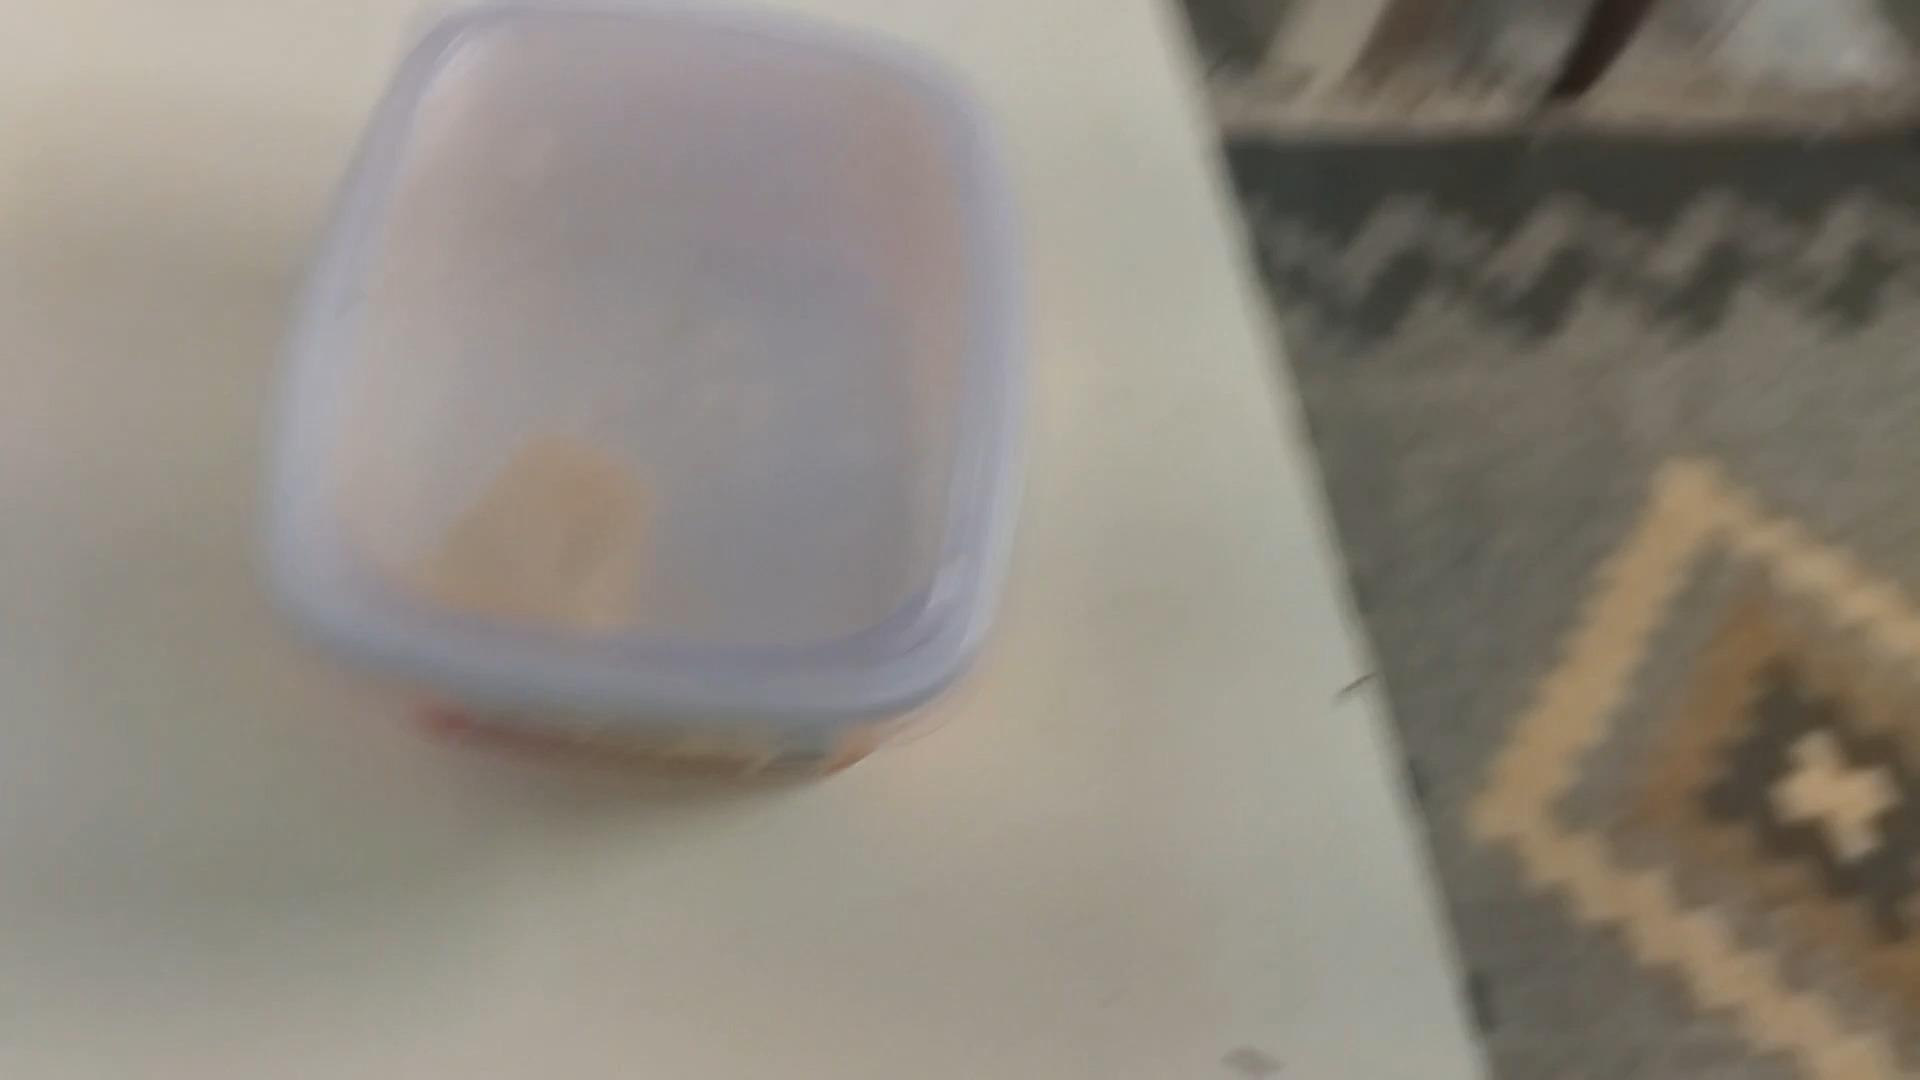butter: (256, 0, 1019, 785)
